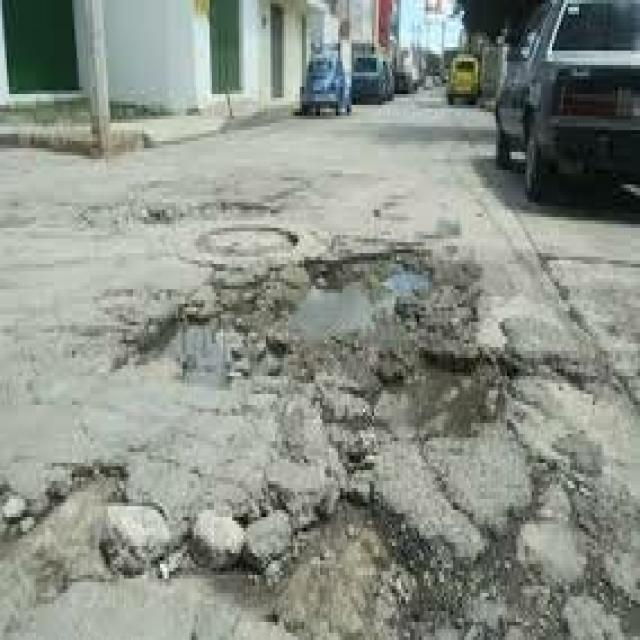Pothole: (2, 159, 624, 640)
